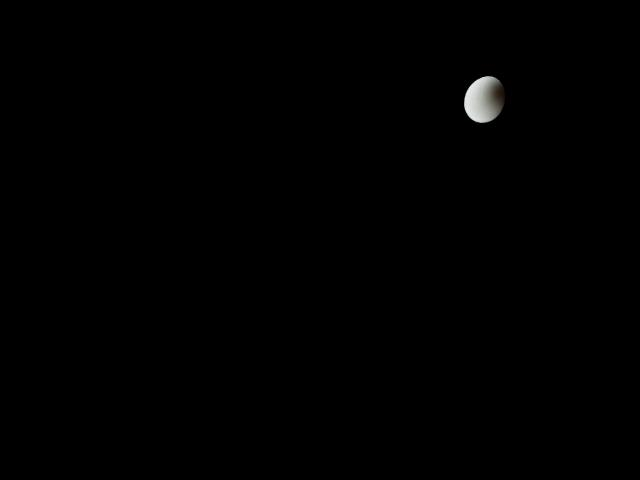egg: (462, 74, 506, 123)
